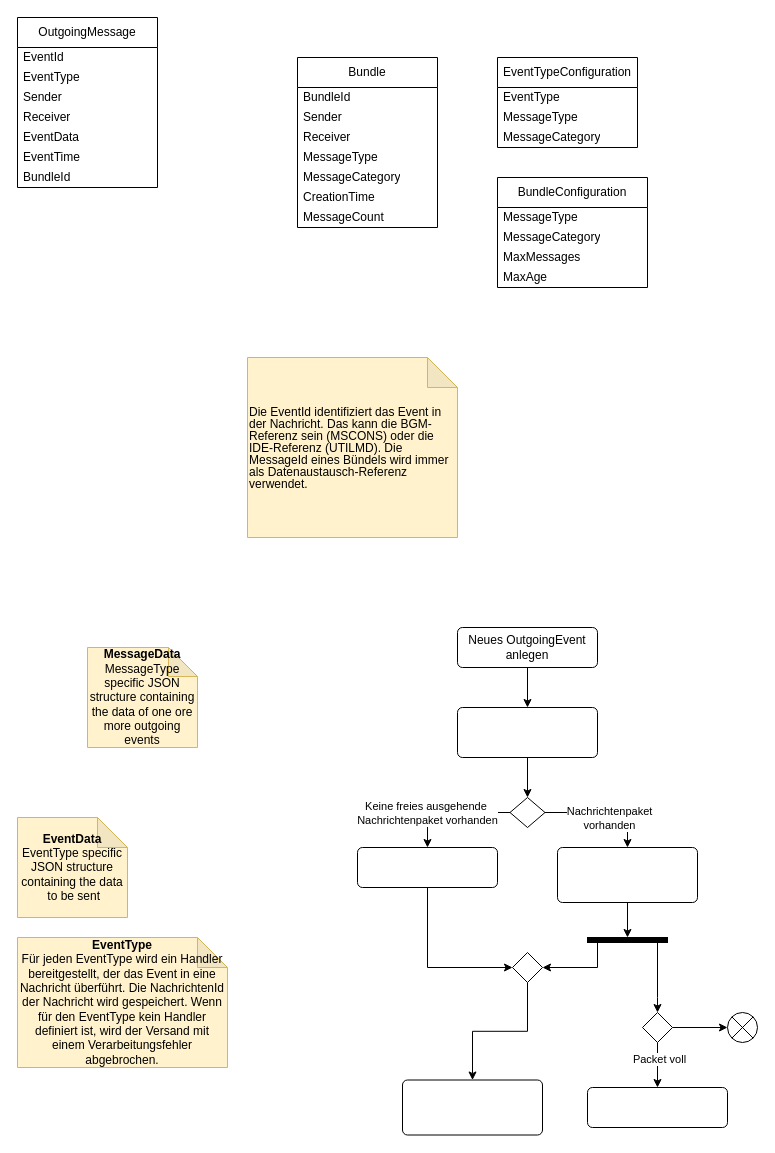
Image size: 775x1153. Some labels were removed from this diagram. Here are the shapes that lost their labels. From the top down, the centre of each, then its label:
At point 527,732: "MessageType und MessageCategory ermitteln".
At point 427,867: "Ausgehende Nachricht anlegen".
At point 627,874: "EventCount für ausgehende Nachricht erhöhen".
At point 472,1107: "NachrichtenId dem AusgehendenEvent zuordnen".
At point 657,1107: "Paket versenden".
